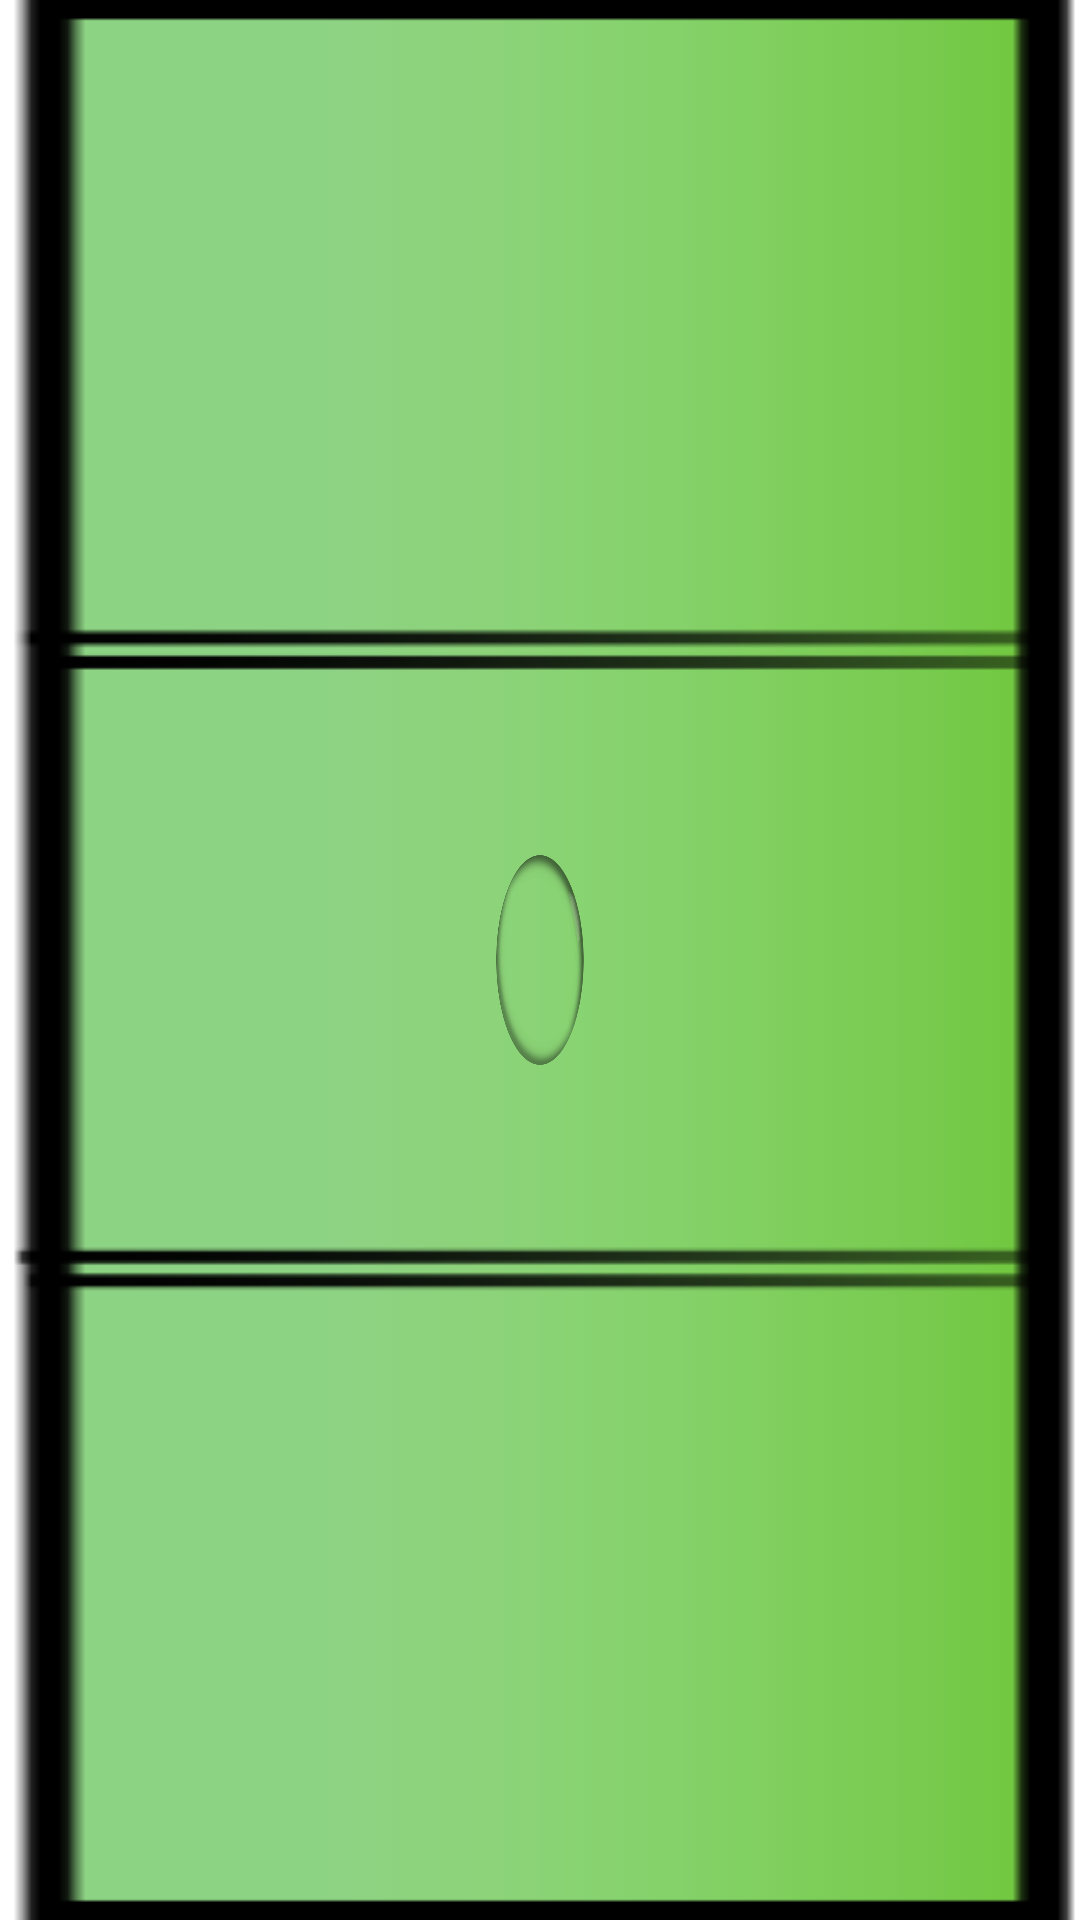

Named icons in this screenshot (1080 x 1920) and their centers, point (x, y):
waterdrop vertical: point (540, 960)
